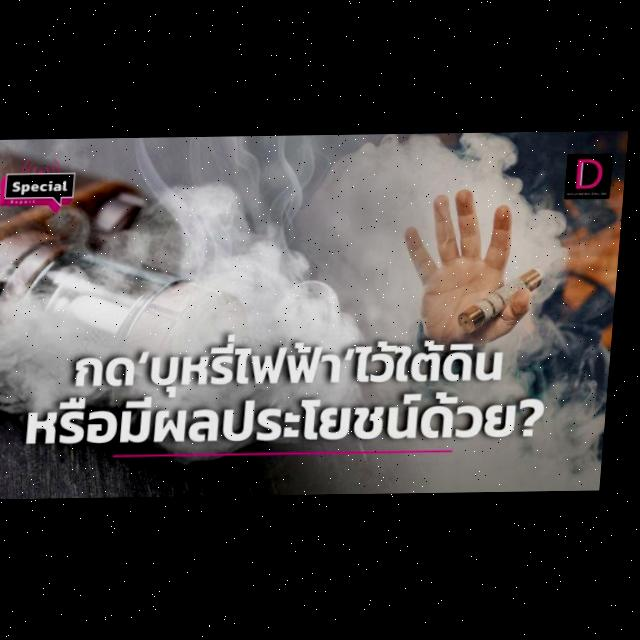vape: (464, 270, 550, 335)
